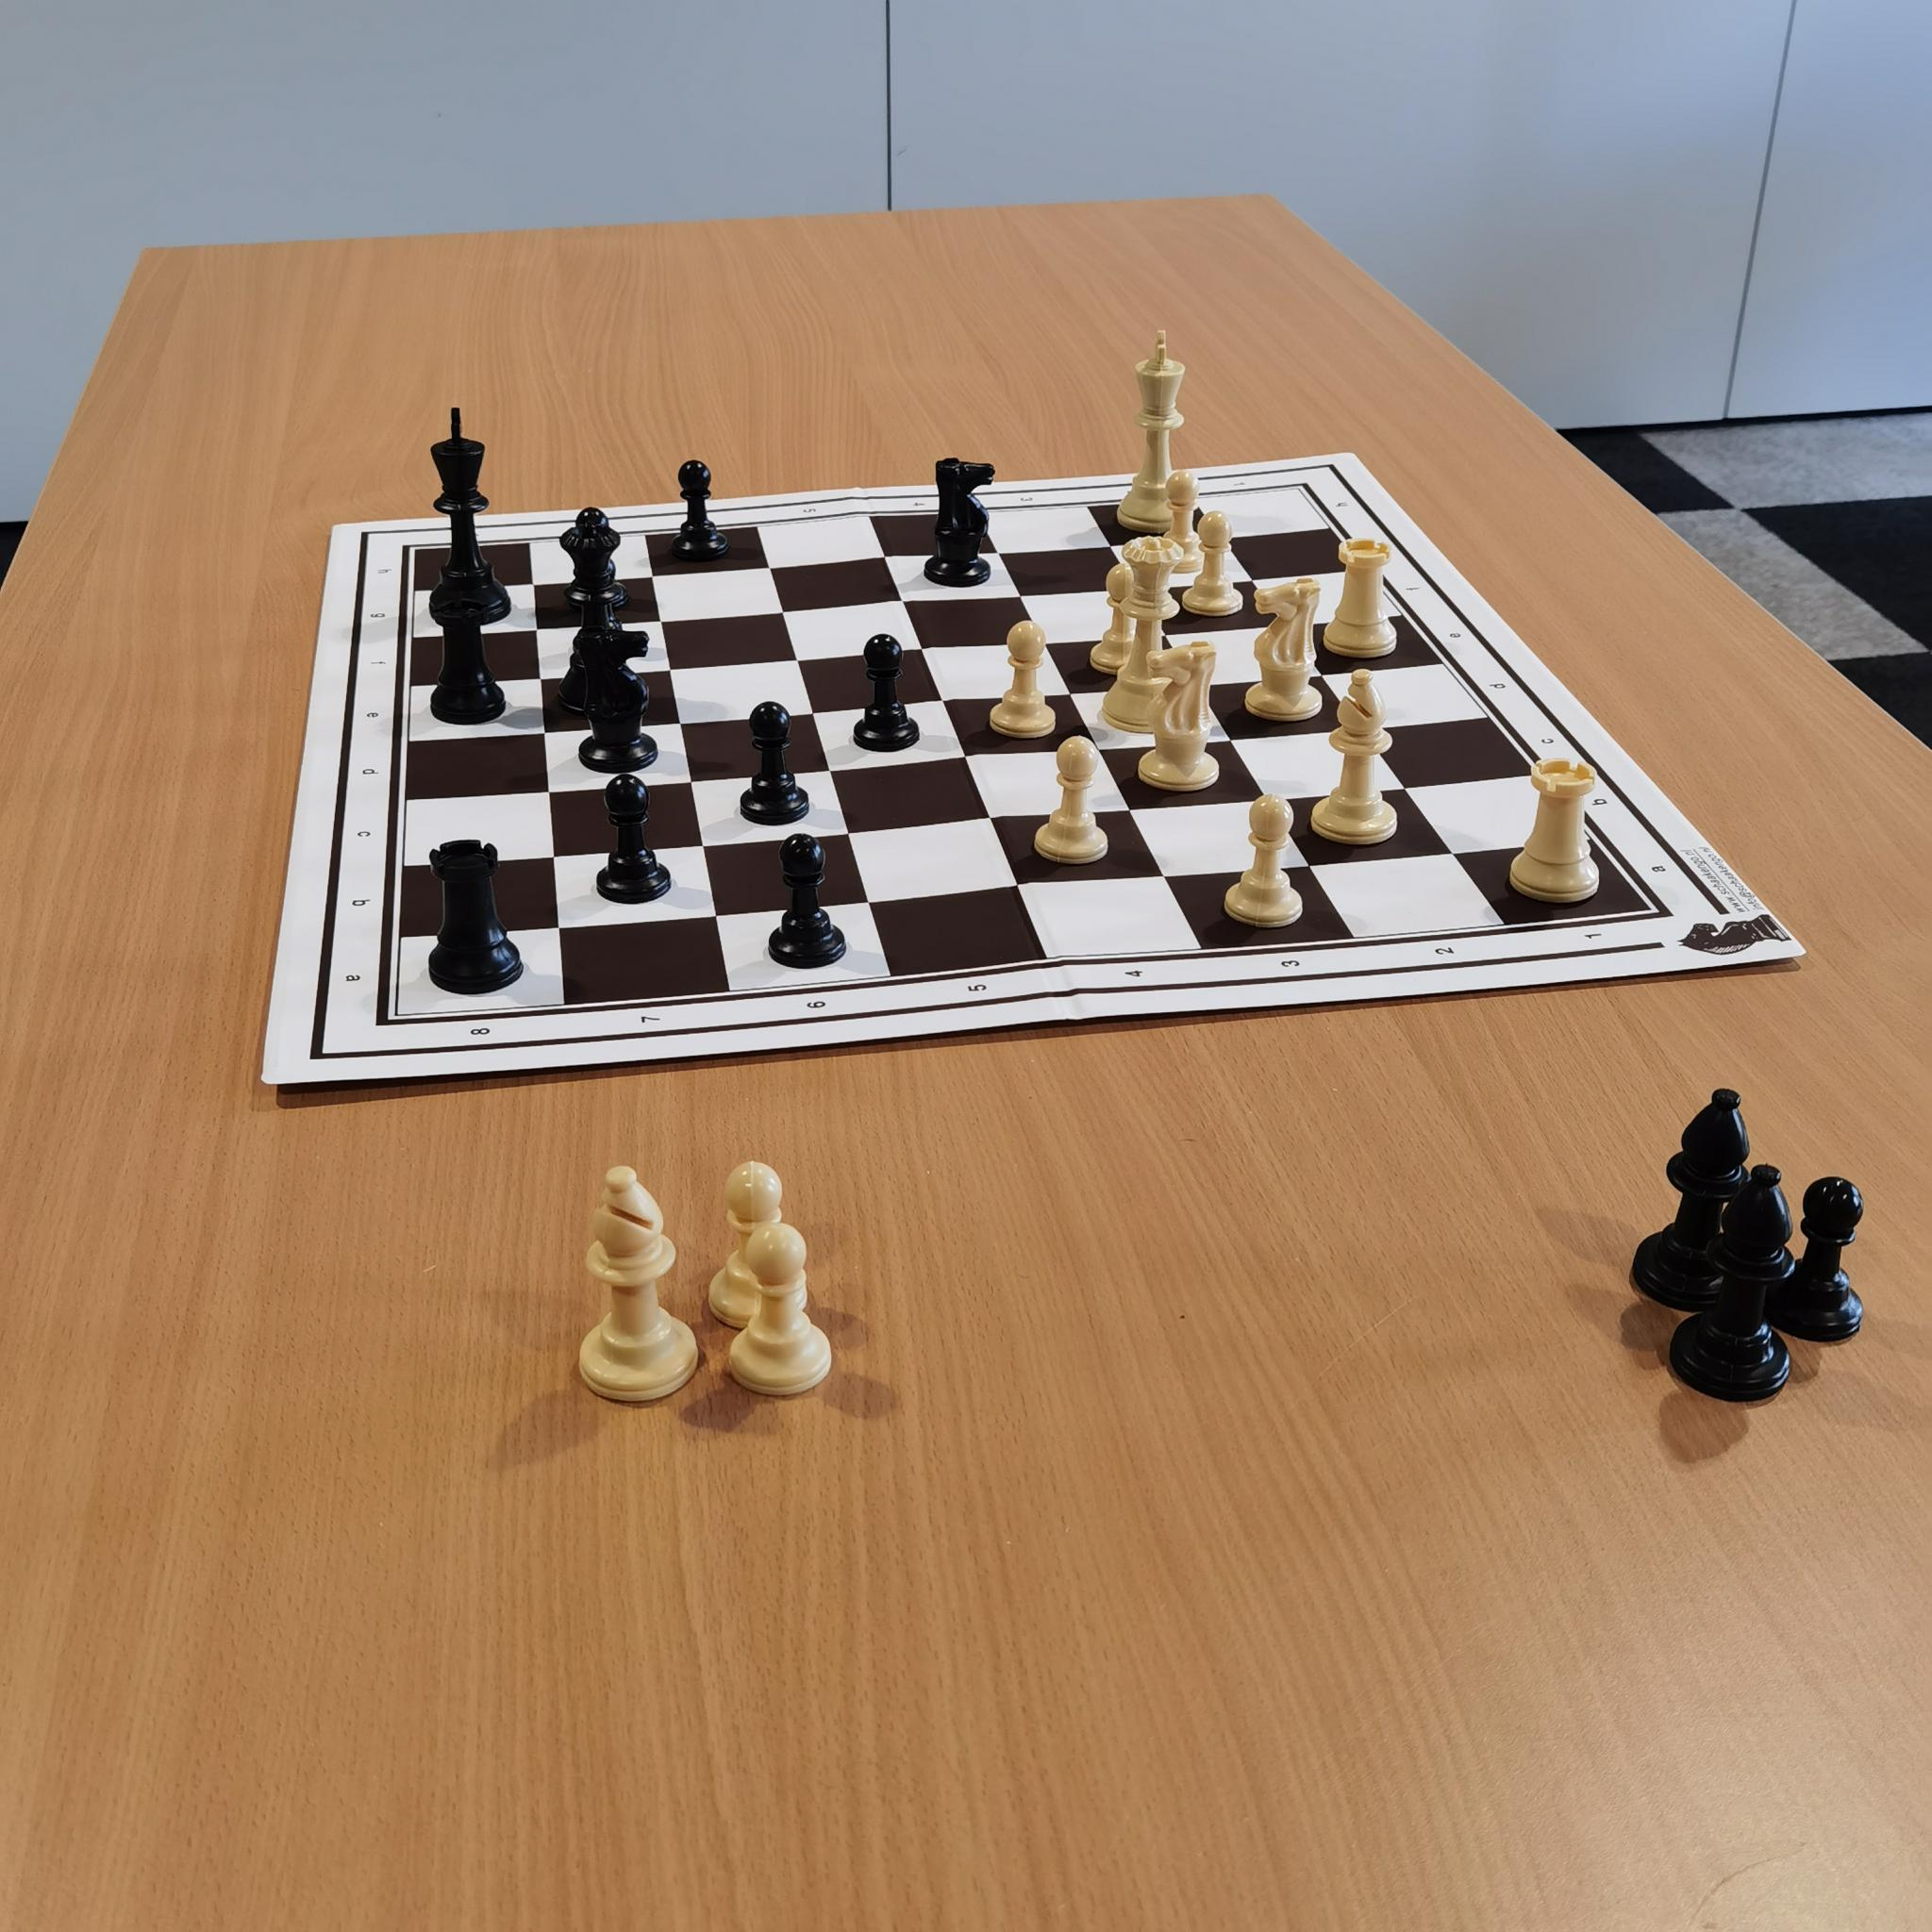corners: (1624, 890, 1675, 936), (1272, 469, 1315, 511), (380, 994, 418, 1030), (400, 538, 433, 561)
eight: (449, 511, 492, 554), (462, 1012, 502, 1054)
one: (1226, 460, 1261, 508), (1573, 920, 1614, 954)
